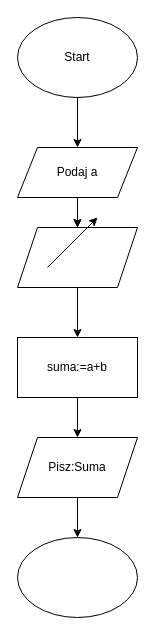
The diagram is 155 pixels wide and 635 high, and some of its shapes have lost their labels. Here are the shapes that lost their labels. From the top down, the centre of each, then its label:
At [77,257]: "Podaj b".
At [77,577]: "Stop".
